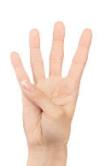right: (8, 18, 93, 144)
